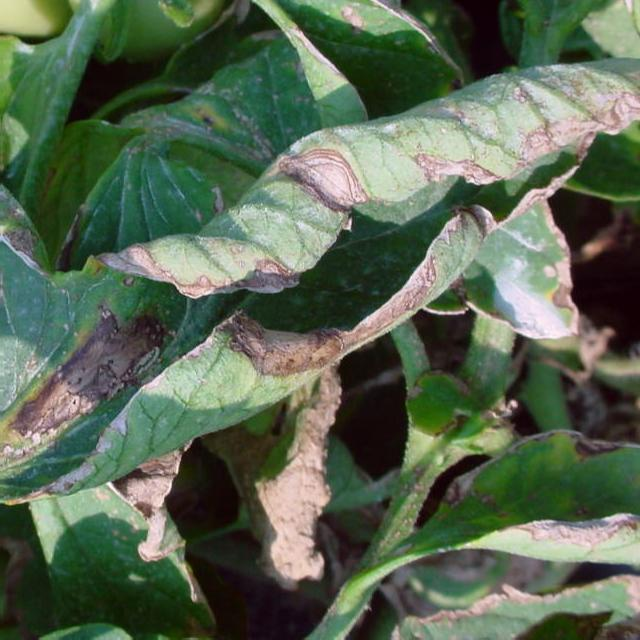Tomato leaf bacterial spot: (0, 14, 640, 605)
